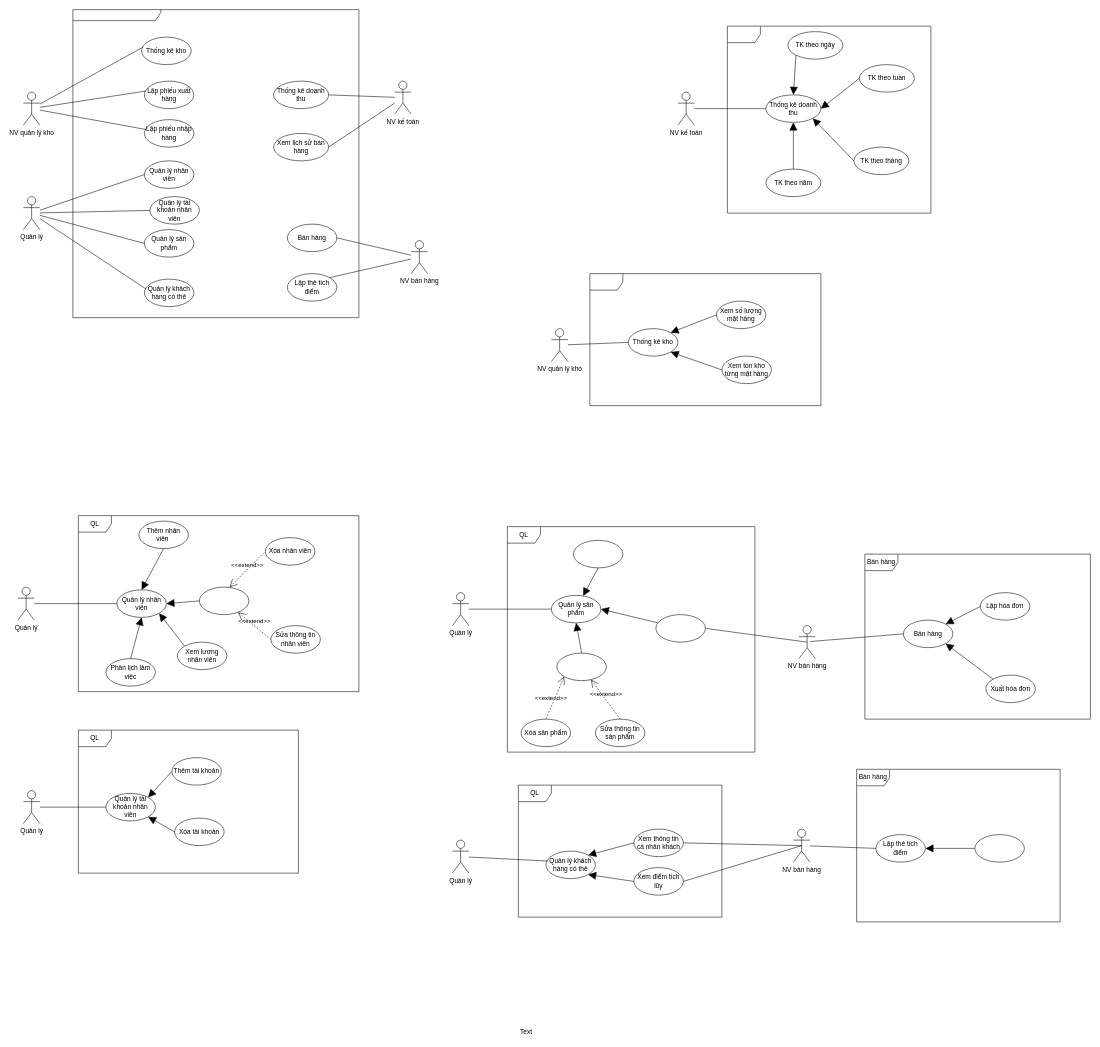
Some shapes in this 1100 by 1047 pixel diagram are drawn without their labels. The shapes that lost their labels are listed below. From the top down, each one's box as (x1, y1, x2, y2) in pixels, then its label:
(727, 26, 931, 213): Kế toán
(72, 9, 359, 318): Hệ thống QL cửa MiniStop
(589, 273, 821, 406): QL kho
(573, 540, 623, 568): Thêm sản phẩm
(199, 587, 249, 615): Xem nhân viên
(655, 614, 705, 642): Tìm kiếm sản phẩm
(556, 653, 606, 681): Xem thông tin sản phẩm
(974, 834, 1024, 862): Thêm thông tin khách hàng
